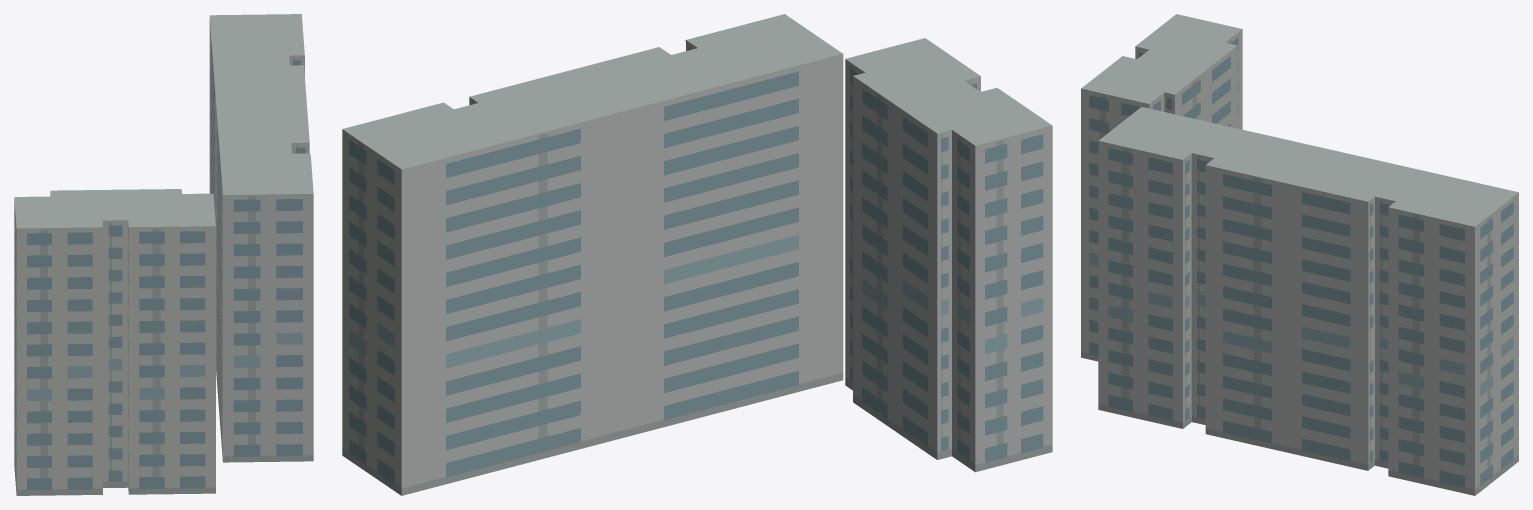
The model's file is residential-1bb183ed-9f37-4181-9eea-8531782190e7.glb.
3 renders of one model, left to right at view 1: azimuth 30°, elevation 25°; view 2: azimuth 150°, elevation 25°; view 3: azimuth 270°, elevation 25°, orthographic. The views are drawn at different scales.
Parts seen in each view (by area): view 1: residential-1bb183ed-9f37-4181-9eea-8531782190e7.tmp; view 2: residential-1bb183ed-9f37-4181-9eea-8531782190e7.tmp; view 3: residential-1bb183ed-9f37-4181-9eea-8531782190e7.tmp.
Boxes of the visible parts, left/top/right/bottom form: residential-1bb183ed-9f37-4181-9eea-8531782190e7.tmp: left=14, top=14, right=313, bottom=495; residential-1bb183ed-9f37-4181-9eea-8531782190e7.tmp: left=342, top=14, right=1052, bottom=495; residential-1bb183ed-9f37-4181-9eea-8531782190e7.tmp: left=1081, top=14, right=1518, bottom=495.
Size of the model in its own units: 66.18 by 39 by 57.53.
